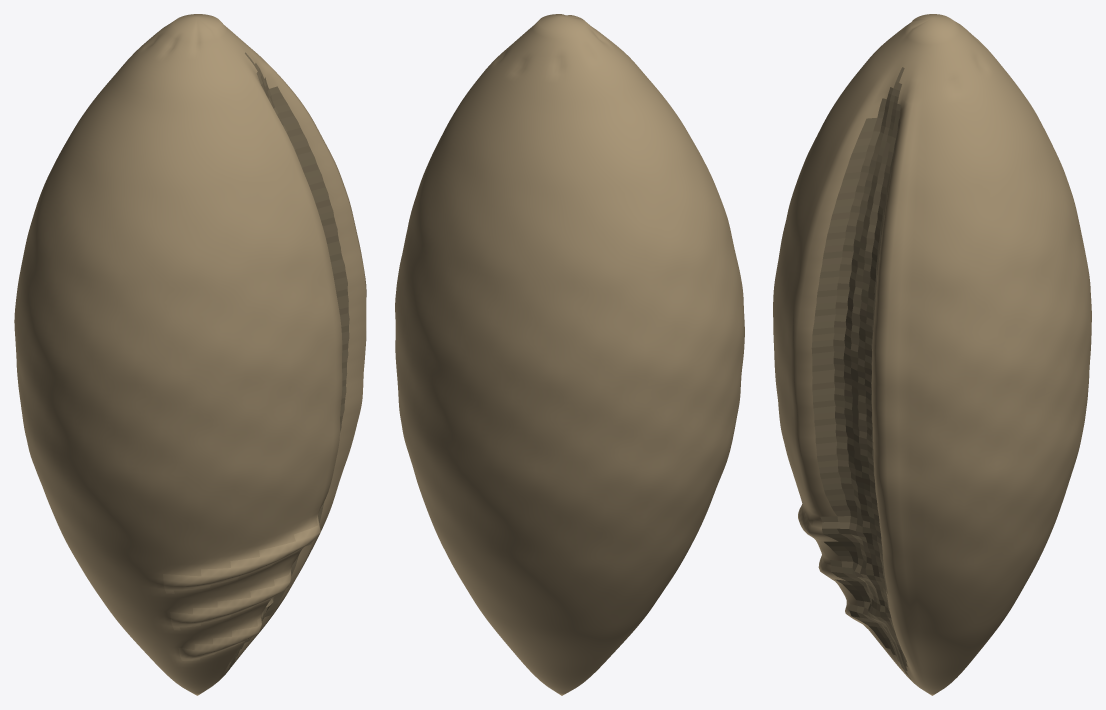
The picture shows the model from 3 angles, left to right: view 1: azimuth 30°, elevation 25°; view 2: azimuth 150°, elevation 25°; view 3: azimuth 270°, elevation 25°; orthographic projection.
Visible parts, largest first — view 1: convolute-shell-with-preserved-aperture; view 2: convolute-shell-with-preserved-aperture; view 3: convolute-shell-with-preserved-aperture.
Boxes of the visible parts, x1,y1,x2,y2 form: convolute-shell-with-preserved-aperture: [14, 14, 366, 695]; convolute-shell-with-preserved-aperture: [395, 14, 744, 695]; convolute-shell-with-preserved-aperture: [773, 14, 1091, 695].
Bounding box in the file's own units: 0.036 × 0.075 × 0.032.
